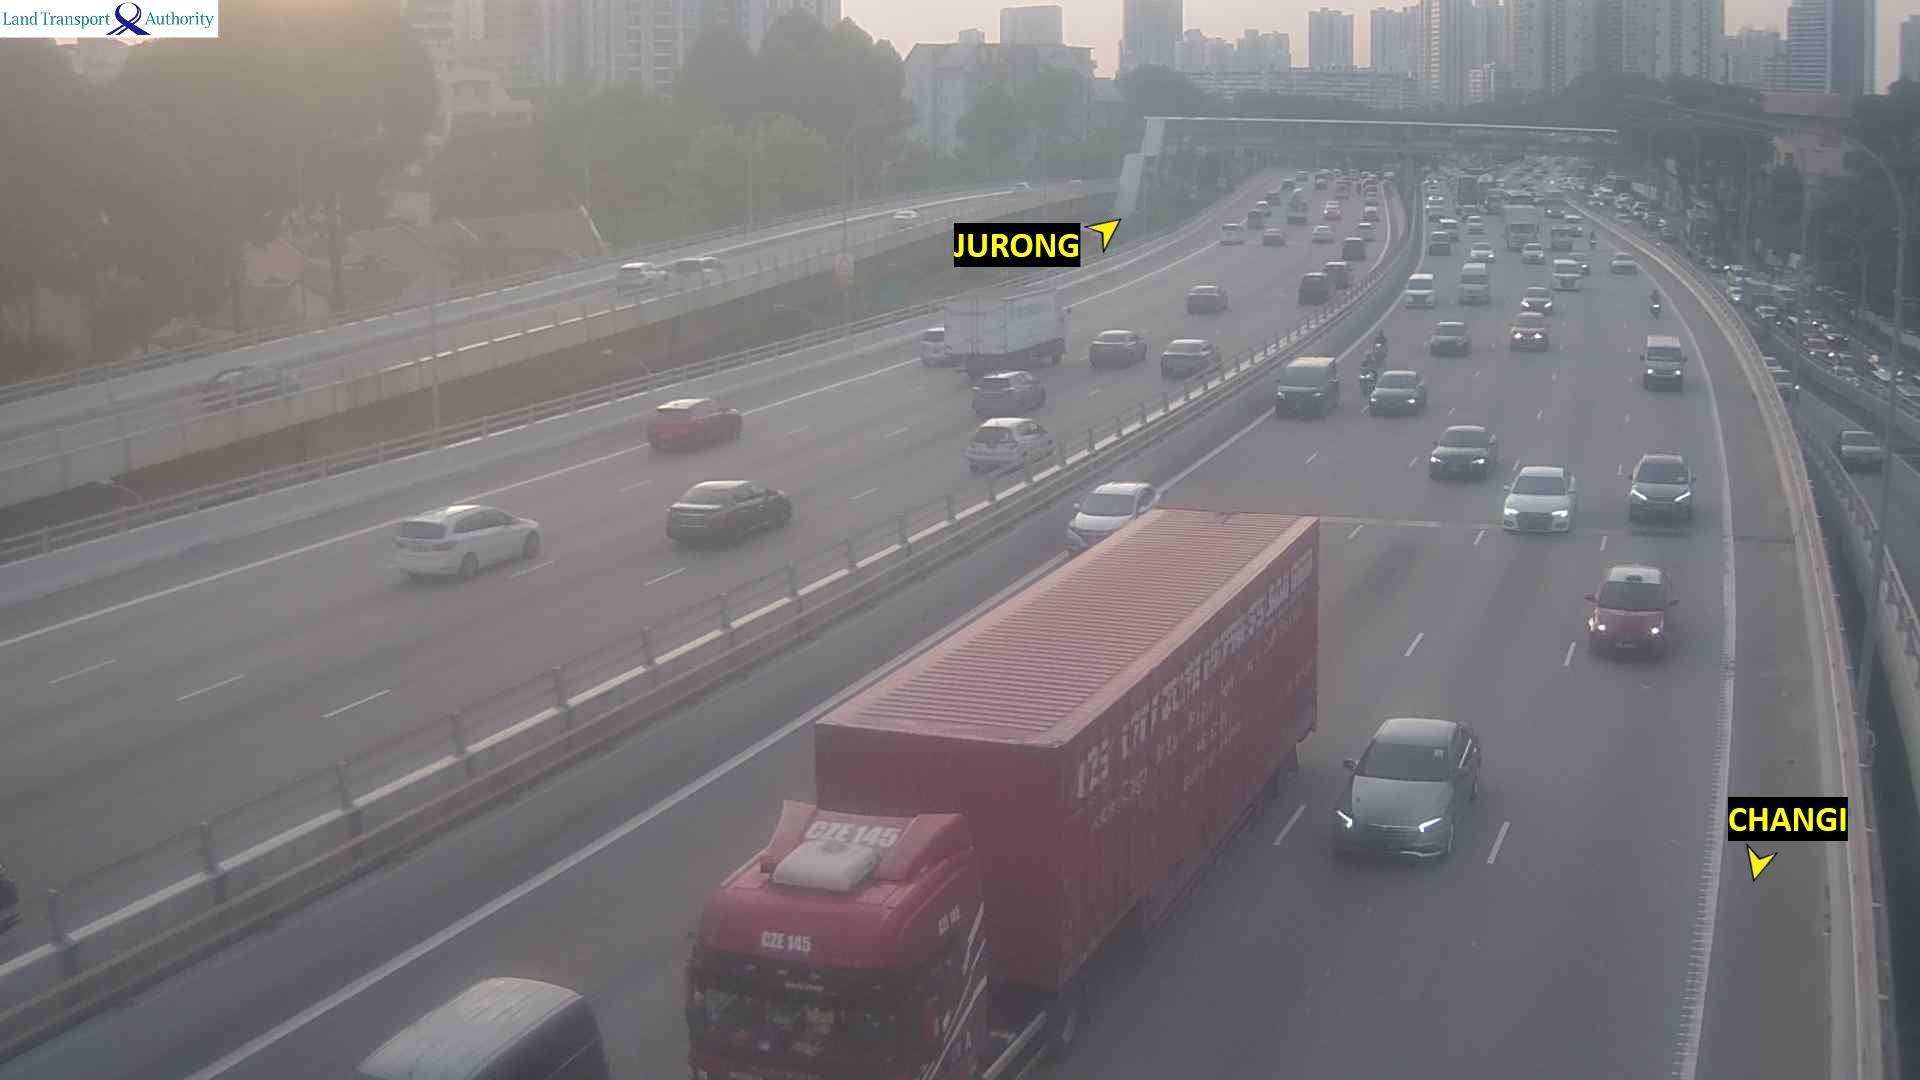cars: (353, 975, 609, 1077), (1331, 715, 1481, 861), (392, 501, 541, 582), (665, 477, 793, 546), (1582, 563, 1675, 658), (1063, 479, 1159, 558), (645, 396, 742, 451), (961, 415, 1054, 473), (1501, 464, 1577, 533), (1623, 452, 1696, 522), (199, 363, 301, 410), (1273, 353, 1340, 415), (1427, 423, 1498, 477), (971, 368, 1044, 415), (1367, 368, 1427, 414), (1640, 334, 1687, 388), (1088, 328, 1146, 369), (1159, 338, 1217, 377), (665, 255, 725, 289), (1837, 427, 1887, 468), (615, 258, 667, 293), (1762, 355, 1799, 401), (1507, 310, 1549, 349), (1427, 319, 1472, 355), (1456, 261, 1489, 305), (918, 324, 952, 365), (1185, 284, 1228, 313), (1403, 272, 1436, 309), (1549, 257, 1585, 290), (1298, 270, 1331, 303), (1519, 285, 1553, 314), (1323, 258, 1352, 287), (1425, 229, 1455, 255), (1341, 235, 1366, 260), (1354, 219, 1379, 244), (1218, 220, 1245, 244), (1284, 196, 1308, 223), (1437, 216, 1461, 243), (1609, 251, 1636, 273), (1468, 241, 1495, 262), (1563, 212, 1585, 237), (1520, 240, 1544, 262), (1361, 185, 1383, 208), (1246, 208, 1267, 232), (1465, 215, 1489, 236), (891, 206, 918, 224), (1506, 189, 1532, 207), (1261, 225, 1284, 245), (1311, 224, 1335, 243), (1321, 198, 1342, 218), (1254, 199, 1274, 220), (1427, 210, 1447, 228), (1278, 177, 1299, 194), (1613, 210, 1634, 227), (1648, 287, 1662, 314), (1265, 189, 1283, 207), (1332, 181, 1349, 200), (1312, 171, 1329, 191), (1362, 206, 1381, 223)
motorcycle: (1357, 352, 1379, 398), (1371, 326, 1394, 368), (1588, 228, 1598, 248)
trucks: (683, 500, 1320, 1076), (1502, 204, 1545, 251), (1739, 278, 1783, 324), (1567, 236, 1594, 274), (1549, 223, 1576, 252), (1543, 190, 1569, 219)
